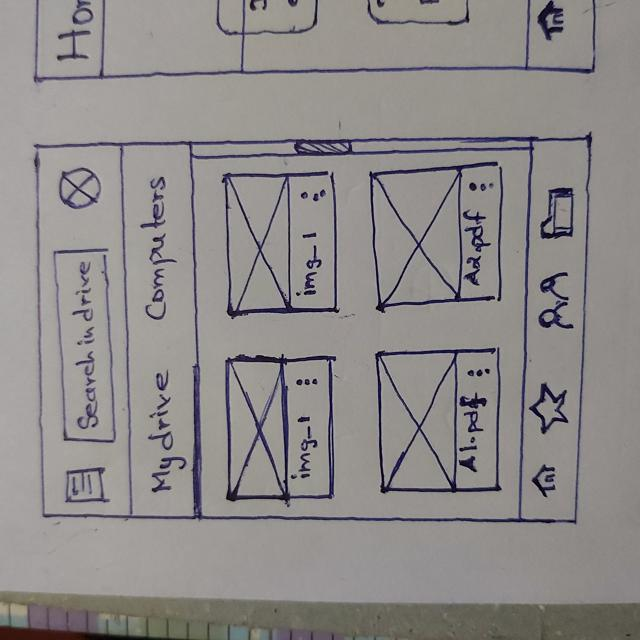AppBar: (36, 143, 134, 519)
BottomNavBar: (517, 135, 586, 530)
BottomNavItems: (526, 254, 586, 360), (531, 146, 587, 254), (523, 361, 581, 449), (520, 448, 579, 524)
CardView: (369, 162, 505, 303), (372, 348, 503, 494), (221, 354, 337, 502), (223, 173, 340, 314)
DrawerToggleButton: (63, 466, 107, 504)
EditText: (50, 244, 122, 447)
GridListView: (193, 156, 522, 519)
Icon: (530, 379, 571, 436), (536, 271, 574, 332), (539, 185, 575, 241), (530, 462, 562, 499), (463, 365, 495, 381), (299, 187, 326, 204), (467, 179, 496, 194), (295, 377, 322, 389)
Image: (369, 168, 463, 304), (374, 351, 456, 491), (224, 358, 292, 501), (225, 173, 294, 312)
MainLayout: (32, 134, 594, 536)
RoundedImage: (57, 167, 104, 209)
ScrollBar: (192, 138, 531, 156)
Tab: (120, 140, 204, 520)
TabItem: (125, 148, 190, 326), (130, 349, 200, 513)
TextView: (458, 391, 490, 479), (461, 207, 490, 291), (295, 230, 326, 300), (293, 414, 321, 484)
